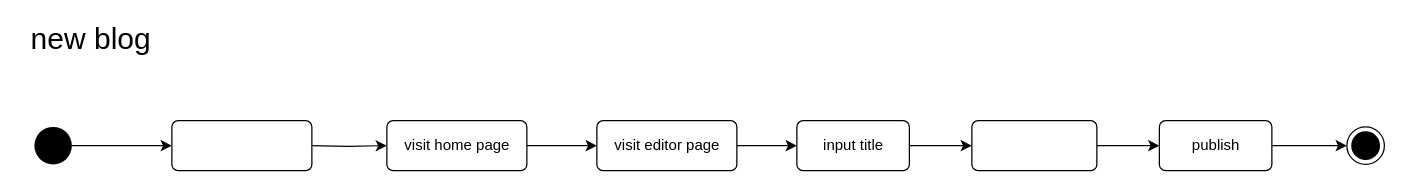
The diagram is 1406 pixels wide and 193 high, and some of its shapes have lost their labels. The centre of each missing label's shape, as x and y in pixels:
"input content" belongs at pixel 1034 145.
"sign in" belongs at pixel 241 145.
